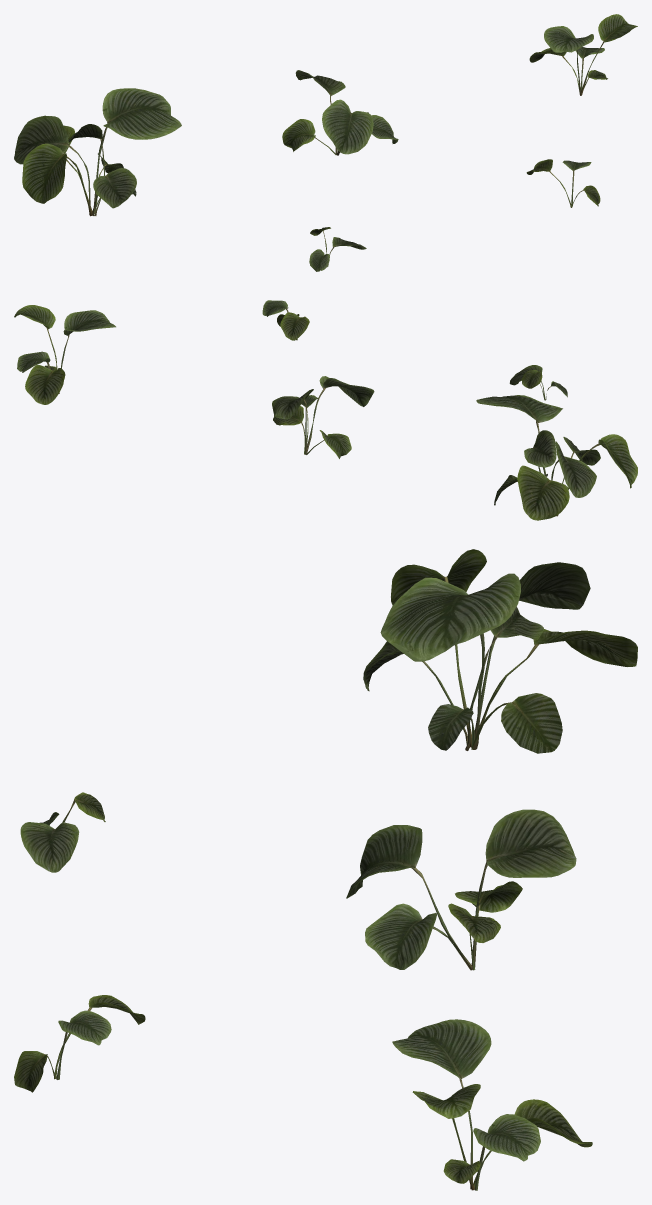
File: calathea_orbifolia_01.glb
The picture shows the model from 3 angles, top to bottom: view 1: azimuth 30°, elevation 25°; view 2: azimuth 150°, elevation 25°; view 3: azimuth 270°, elevation 25°; orthographic projection. The views are drawn at different scales.
Visible parts, largest first — view 1: calathea_orbifolia_01_a, calathea_orbifolia_01_b, calathea_orbifolia_01_c, calathea_orbifolia_01_e, calathea_orbifolia_01_d; view 2: calathea_orbifolia_01_a, calathea_orbifolia_01_c, calathea_orbifolia_01_b, calathea_orbifolia_01_e, calathea_orbifolia_01_d; view 3: calathea_orbifolia_01_a, calathea_orbifolia_01_b, calathea_orbifolia_01_c, calathea_orbifolia_01_e, calathea_orbifolia_01_d.
Boxes of the visible parts, <box> form: calathea_orbifolia_01_a: <box>14,88,181,216</box>; calathea_orbifolia_01_b: <box>282,70,398,155</box>; calathea_orbifolia_01_c: <box>529,14,637,95</box>; calathea_orbifolia_01_e: <box>526,159,600,207</box>; calathea_orbifolia_01_d: <box>309,227,366,271</box>; calathea_orbifolia_01_a: <box>476,395,637,520</box>; calathea_orbifolia_01_c: <box>14,305,115,404</box>; calathea_orbifolia_01_b: <box>272,376,374,458</box>; calathea_orbifolia_01_e: <box>262,300,309,340</box>; calathea_orbifolia_01_d: <box>509,365,567,400</box>; calathea_orbifolia_01_a: <box>363,549,637,753</box>; calathea_orbifolia_01_b: <box>346,809,576,970</box>; calathea_orbifolia_01_c: <box>392,1019,592,1190</box>; calathea_orbifolia_01_e: <box>14,995,145,1092</box>; calathea_orbifolia_01_d: <box>20,792,105,872</box>.
Bounding box in the file's own units: 2.49 × 0.4243 × 1.19.
1 material, 1 textured.
